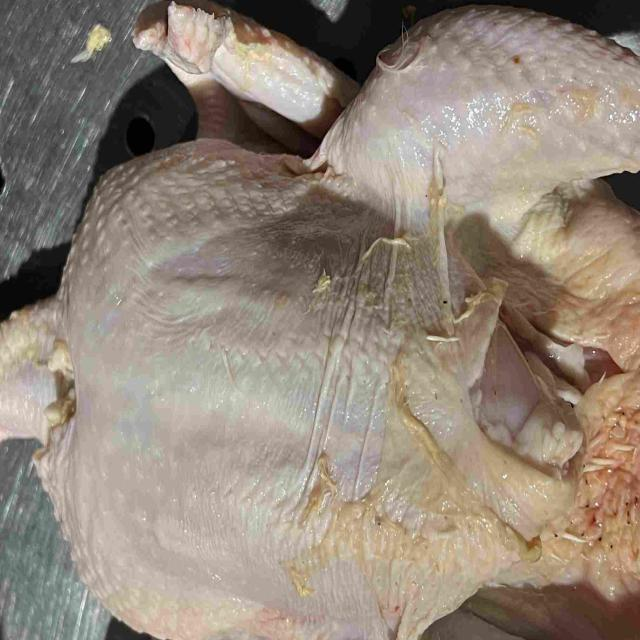breast: (42, 146, 572, 640)
leg: (318, 8, 640, 241)
wing: (131, 2, 358, 154)
